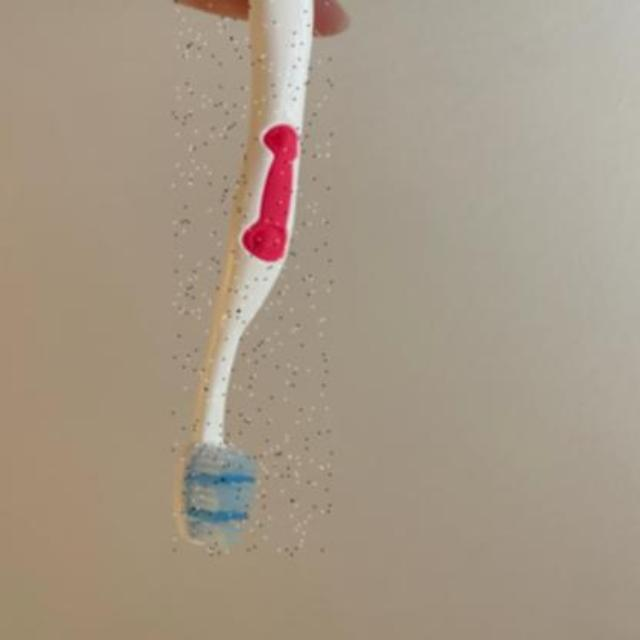toothbrush: (172, 1, 332, 556)
